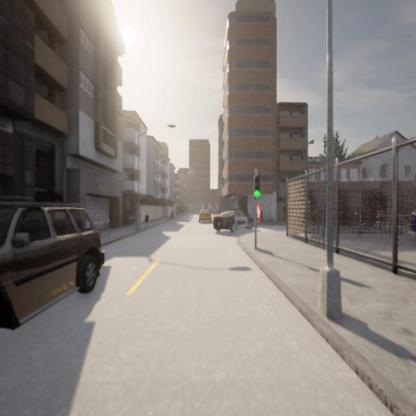traffic_light_green: (254, 173, 262, 198)
vehicle: (0, 201, 105, 301), (213, 208, 252, 231), (199, 209, 212, 223)
